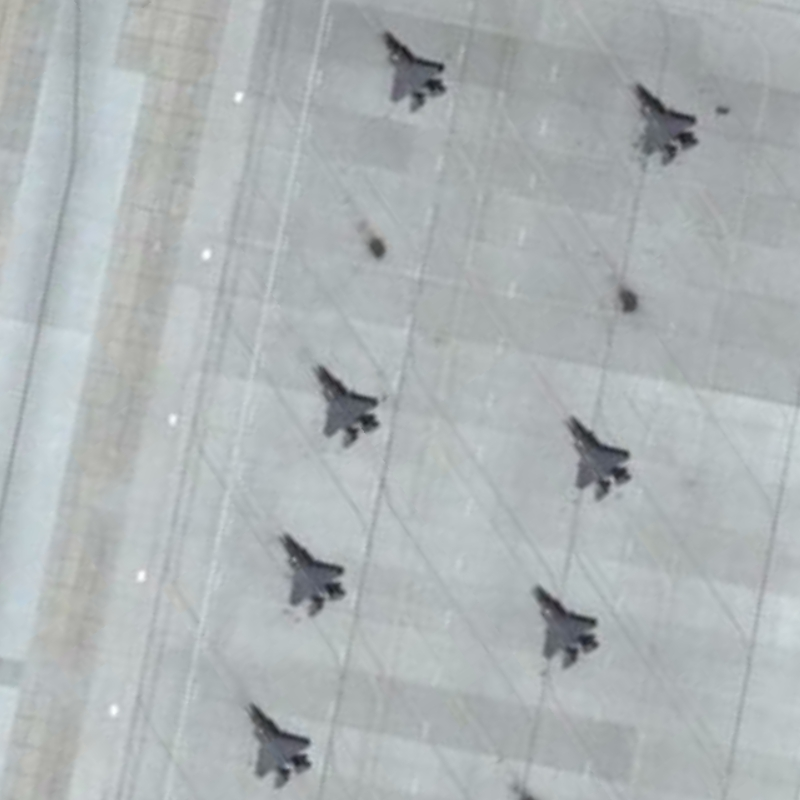A13: (620, 70, 704, 169), (371, 20, 455, 116), (271, 524, 350, 626), (556, 414, 643, 506), (311, 355, 390, 454), (529, 575, 603, 673), (243, 692, 315, 788)
